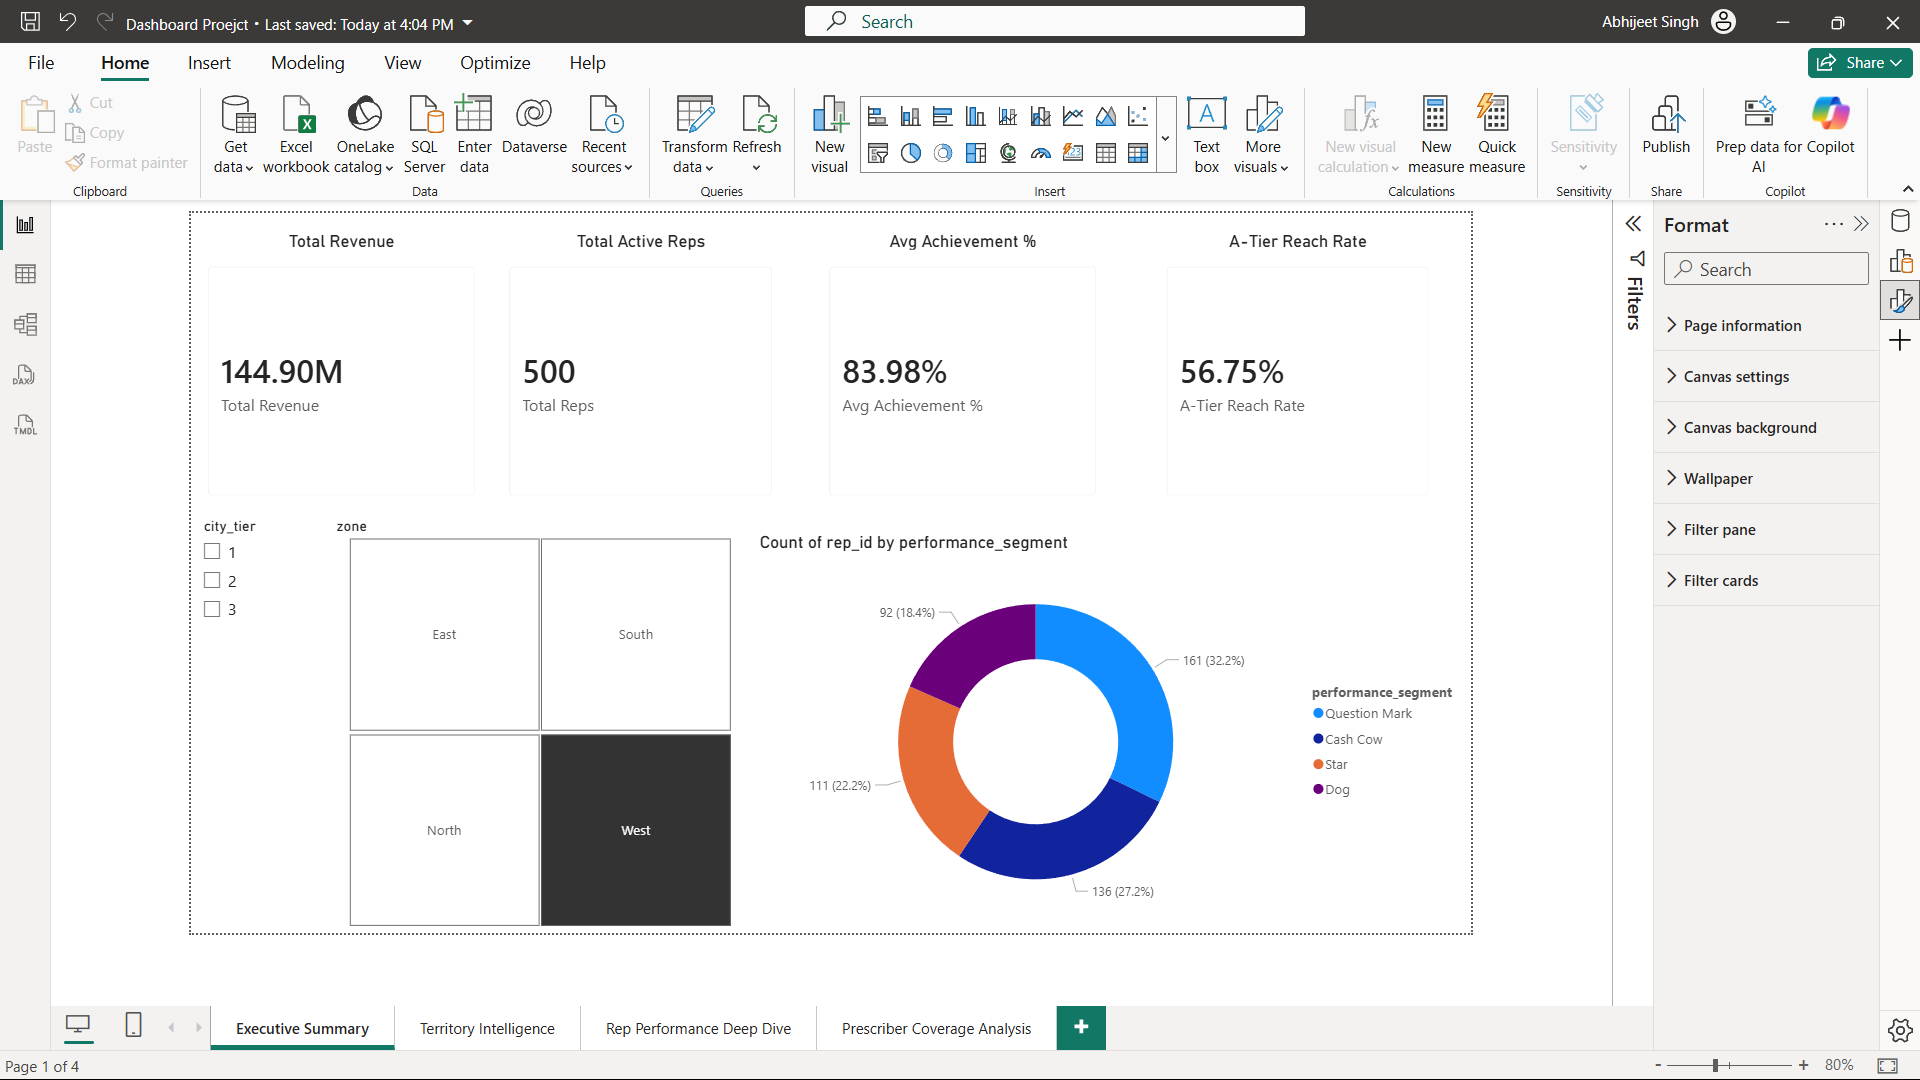

The page's visual inventory and layout, read from the dashboard file:
{"tool":"powerbi","page":{"name":"Executive Summary","canvas":[1280,720],"ordinal":0},"visuals":[{"type":"cardVisual","title":"Total Revenue","fields":{"Data":["_Measure.Total Revenue"]},"box":[0,17.5,301.2,282.5],"z":0},{"type":"cardVisual","title":"Total Active Reps","fields":{"Data":["_Measure.Total Reps"]},"box":[301.2,17.5,297.5,282.5],"z":1000},{"type":"cardVisual","title":"Avg Achievement %","fields":{"Data":["_Measure.Avg Achievement %"]},"box":[621.2,17.5,301.2,282.5],"z":2000},{"type":"cardVisual","title":"A-Tier Reach Rate","fields":{"Data":["_Measure.A-Tier Reach Rate"]},"box":[958.8,17.5,296.2,282.5],"z":3000},{"type":"slicer","fields":{"Values":["territories_dim.zone"]},"box":[132.5,300,431.2,420],"z":4000},{"type":"slicer","fields":{"Values":["territories_dim.city_tier"]},"box":[0,300,132.5,420],"z":5000},{"type":"donutChart","fields":{"Y":["CountNonNull(reps_dim.rep_id)"],"Category":["reps_dim.performance_segment"]},"box":[563.8,318.8,716.2,401.2],"z":6000}]}

Visuals, with their boxes on the page's 1280x720 design canvas (x1, y1, x2, y2). These are canvas units, not pixel positions in the 1920x1080 screenshot, which may show the page scaled, cropped or inside an application window:
"Total Revenue" cardVisual: <box>0,18,301,300</box>
"Total Active Reps" cardVisual: <box>301,18,599,300</box>
"Avg Achievement %" cardVisual: <box>621,18,922,300</box>
"A-Tier Reach Rate" cardVisual: <box>959,18,1255,300</box>
slicer - territories_dim.zone: <box>132,300,564,720</box>
slicer - territories_dim.city_tier: <box>0,300,132,720</box>
donutChart - CountNonNull(reps_dim.rep_id) x reps_dim.performance_segment: <box>564,319,1280,720</box>
